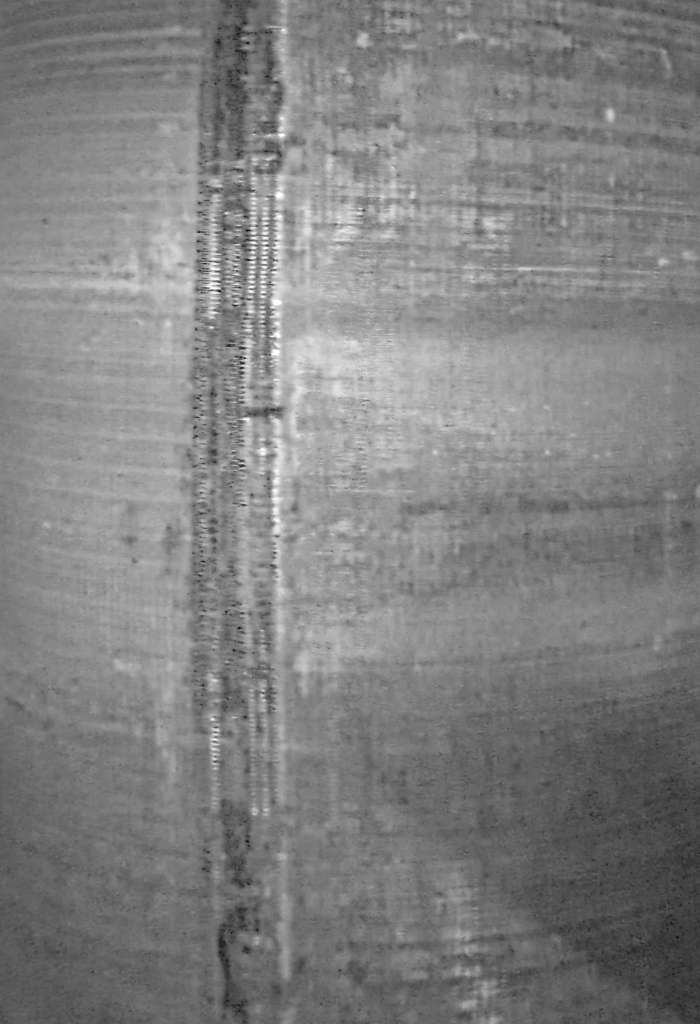splice: (182, 1, 311, 1019)
